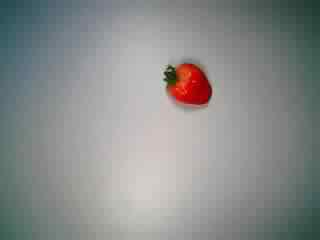strawberry: (152, 56, 218, 118)
